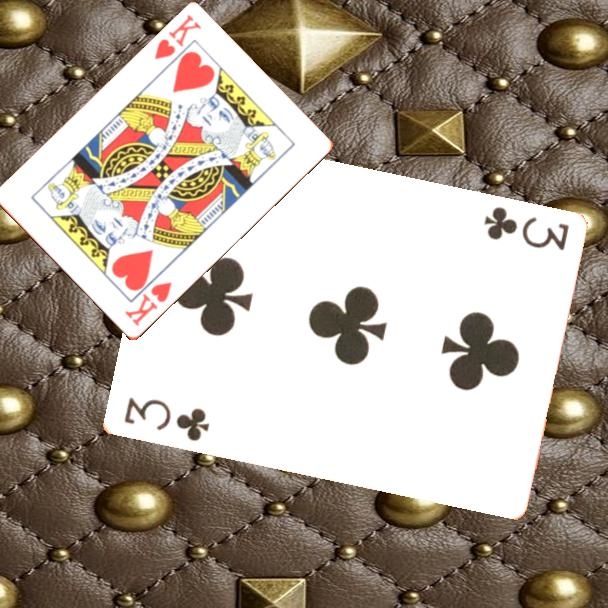c03: (120, 394, 212, 445), (479, 203, 571, 254)
h13: (121, 278, 175, 329), (151, 12, 204, 63)
